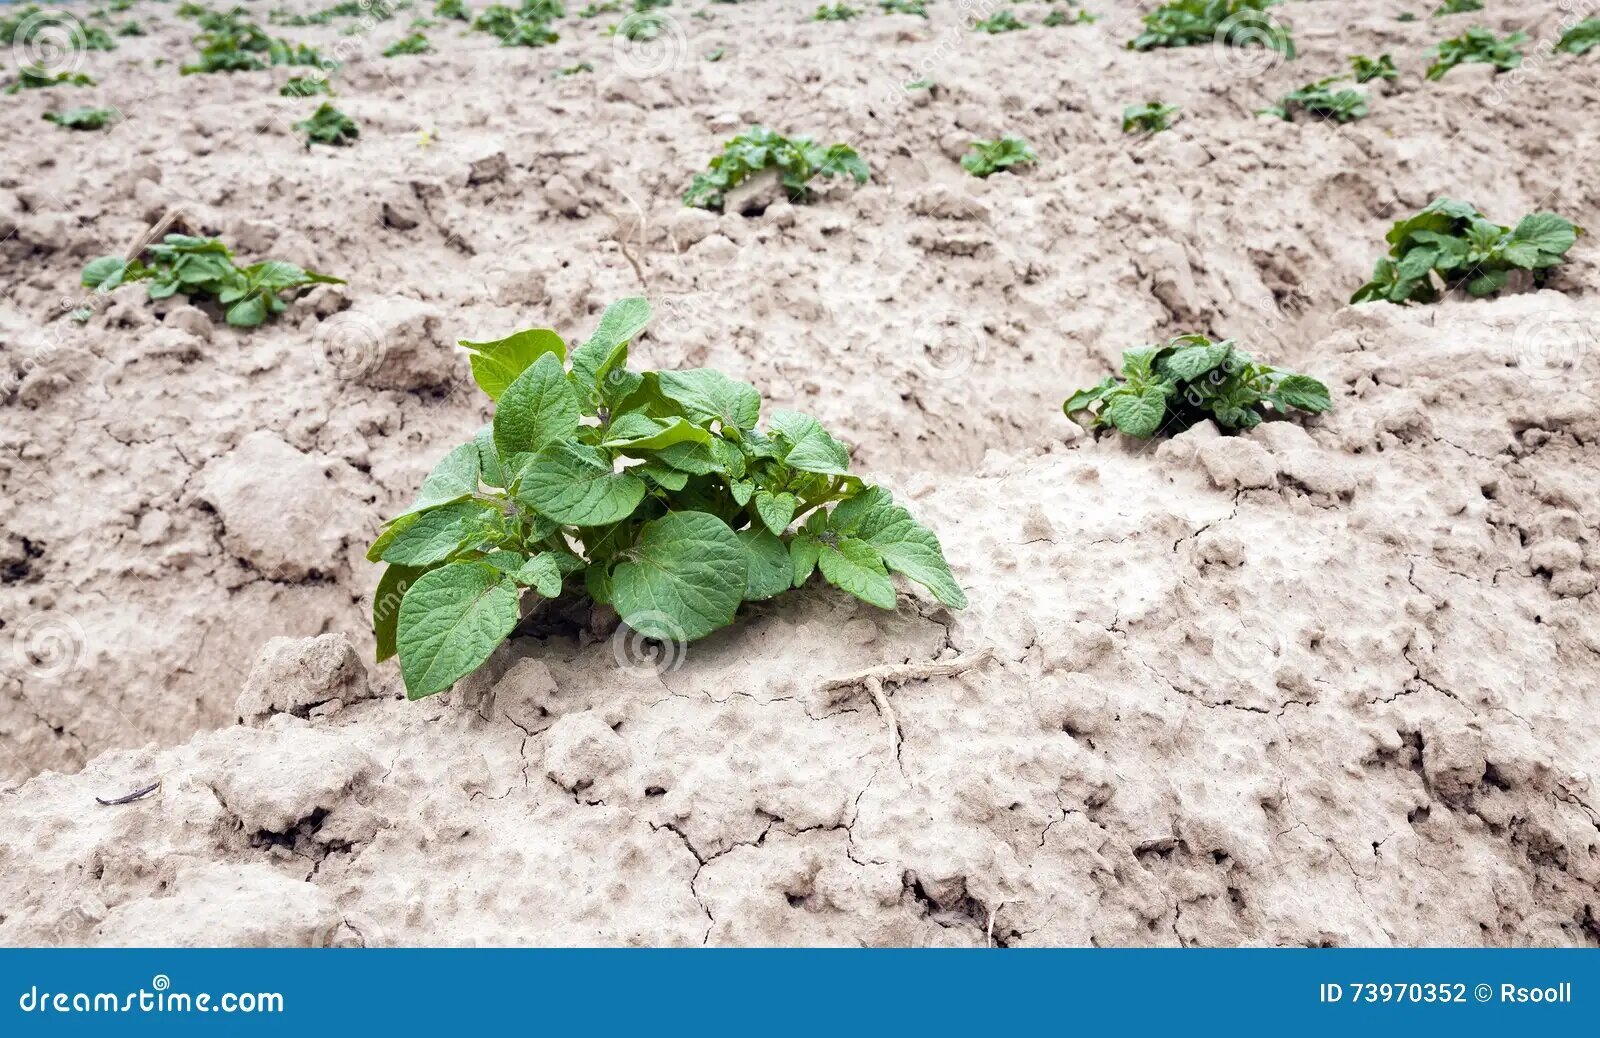potato_plant: (362, 292, 969, 701), (1059, 332, 1333, 441), (1349, 198, 1578, 308), (82, 227, 325, 329), (693, 122, 872, 222)
